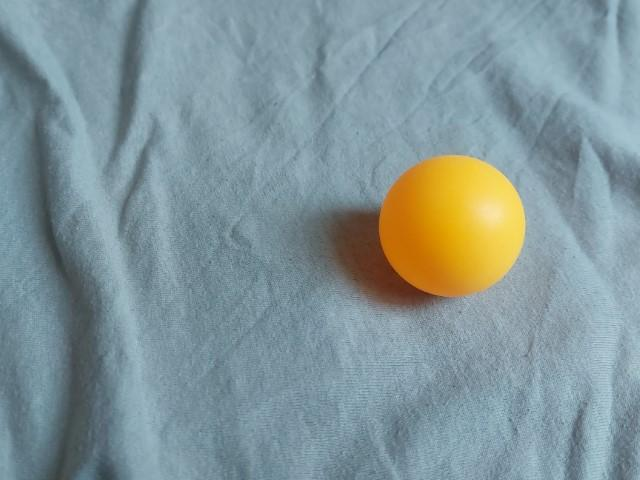oball: (373, 150, 534, 304)
